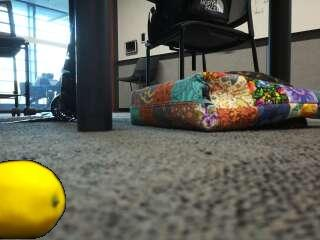lemon: (0, 161, 64, 238)
